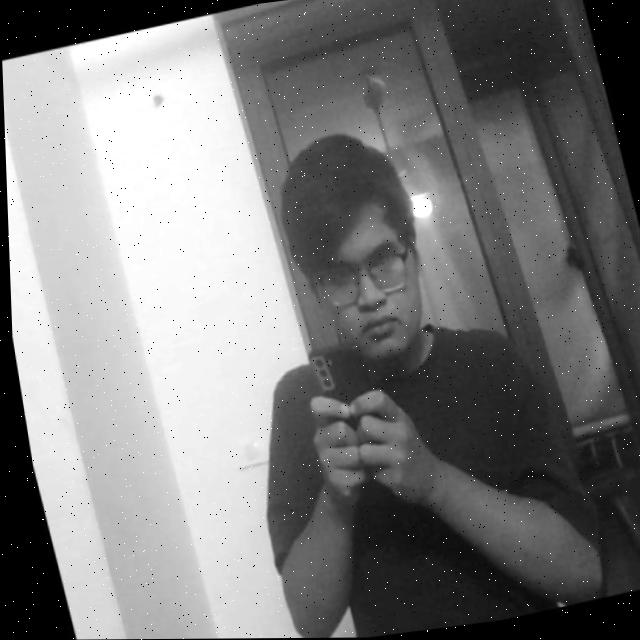phone: (291, 329, 399, 461)
